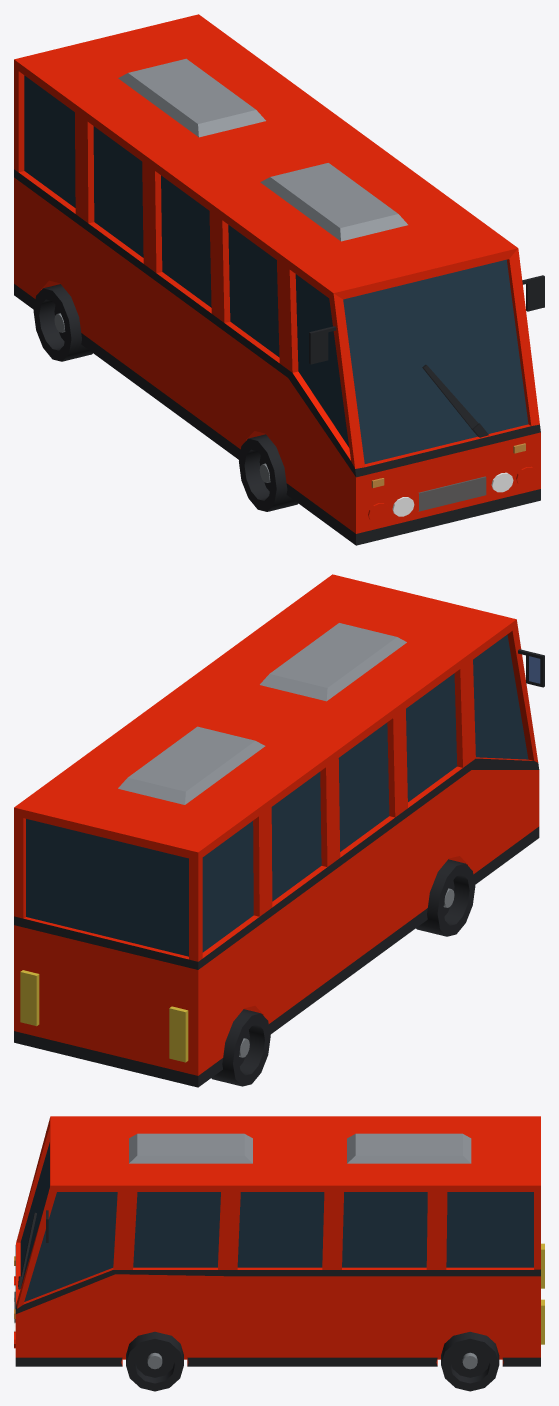
Rendered from Bus_2.fbx.
The picture shows the model from 3 angles, top to bottom: view 1: azimuth 30°, elevation 25°; view 2: azimuth 150°, elevation 25°; view 3: azimuth 270°, elevation 25°; orthographic projection. The views are drawn at different scales.
Parts seen in each view (by area): view 1: Bus_2; view 2: Bus_2; view 3: Bus_2.
Boxes of the visible parts, x1,y1,x2,y2 form: Bus_2: [14, 14, 544, 545]; Bus_2: [14, 574, 544, 1087]; Bus_2: [14, 1116, 544, 1391].
Bounding box in the file's own units: 201 × 223 × 513.
